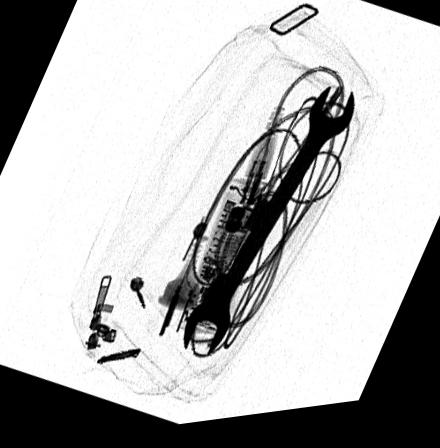Wrench: (183, 90, 357, 363)
